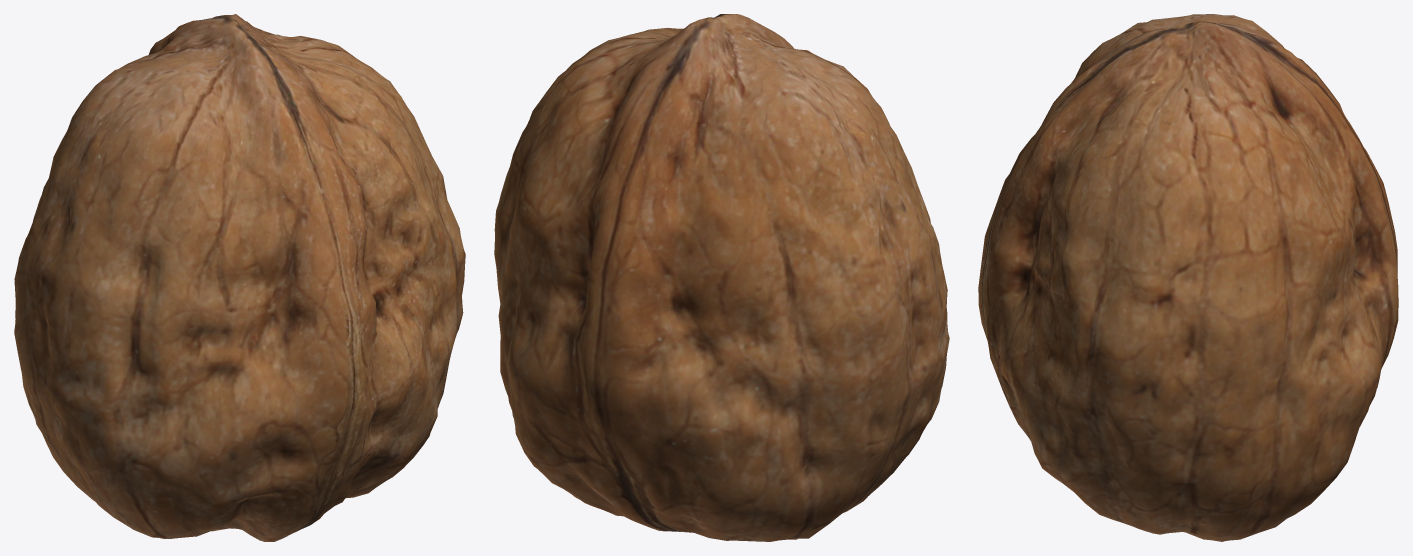
File: almendra.glb
The picture shows the model from 3 angles, left to right: view 1: azimuth 30°, elevation 25°; view 2: azimuth 150°, elevation 25°; view 3: azimuth 270°, elevation 25°; orthographic projection. The views are drawn at different scales.
Visible parts, largest first — view 1: walnut; view 2: walnut; view 3: walnut.
Part boxes in pixels (x1,y1,x2,y2): walnut: (14, 14, 465, 541); walnut: (494, 14, 949, 541); walnut: (978, 14, 1398, 541).
Bounding box in the file's own units: 4.17 × 4.93 × 3.82.
1 material, 1 textured.
